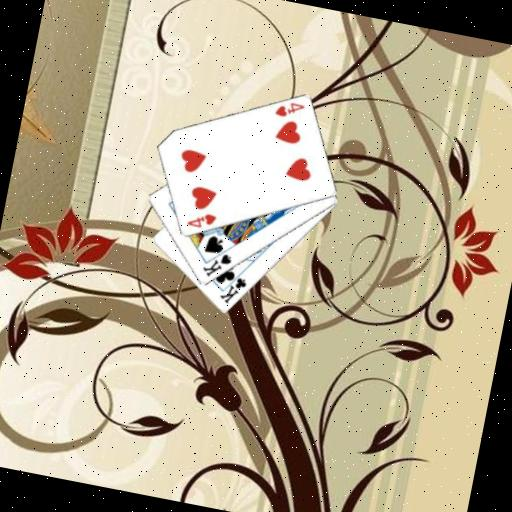4H: (183, 207, 219, 233), (271, 96, 307, 122)
KC: (215, 266, 250, 309)
KS: (198, 247, 235, 283)
